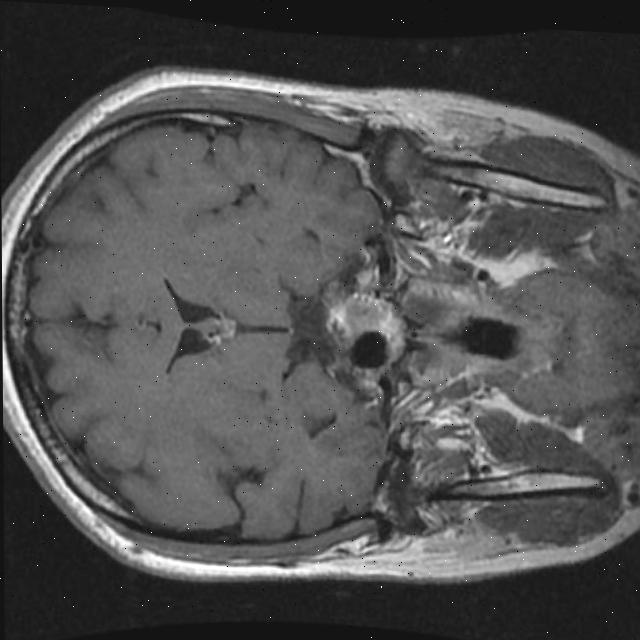Pituitary: (324, 290, 406, 354)
